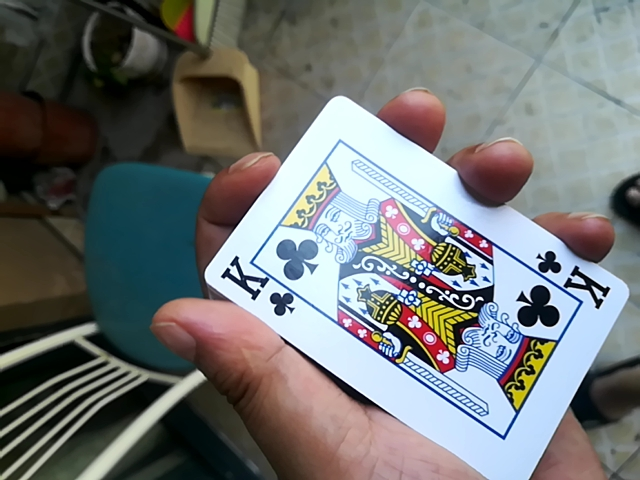mh k: (170, 90, 639, 476)
